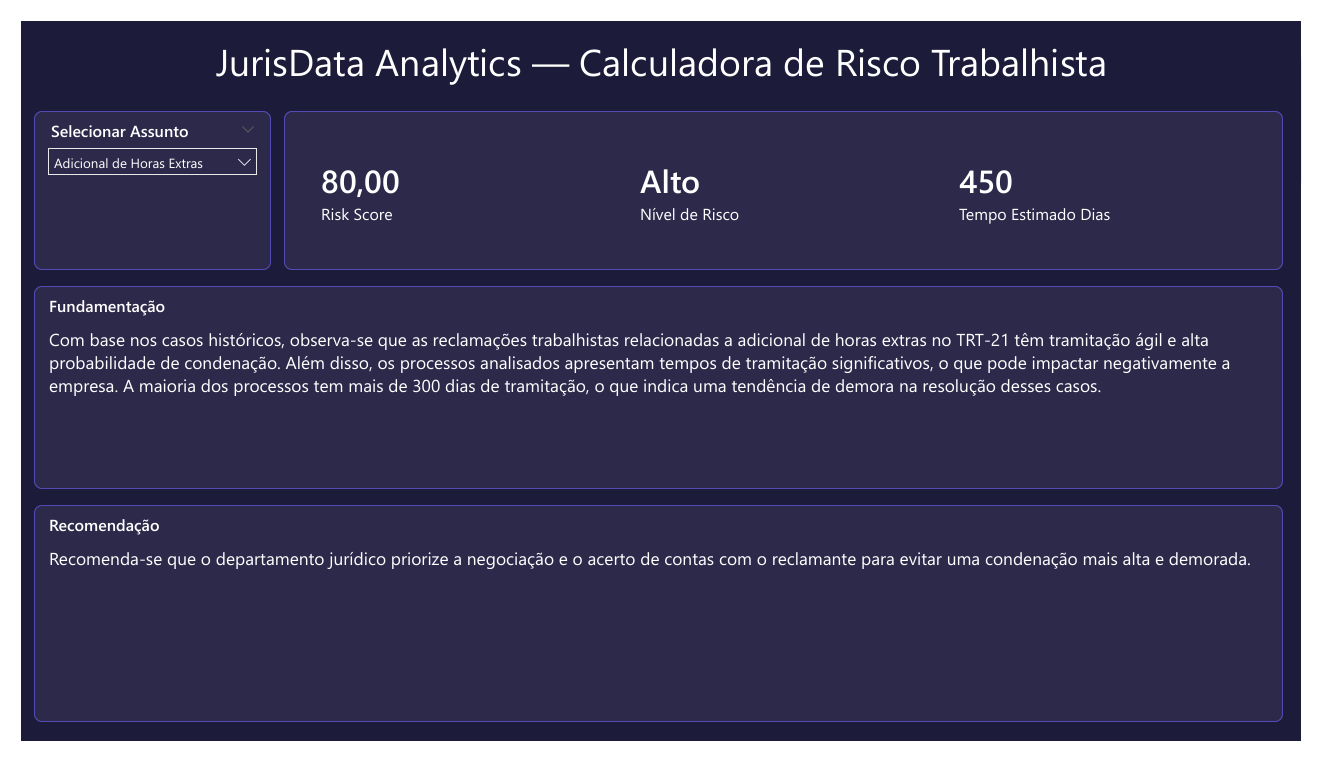

What the dashboard file says about the page in this screenshot:
{"tool":"powerbi","page":{"name":"Calculadora de Risco","canvas":[1280,720],"ordinal":2},"visuals":[{"type":"slicer","fields":{"Values":["llm pareceres.assunto_nome"]},"box":[12.2,88.9,236.7,158.9],"z":0},{"type":"cardVisual","fields":{"Data":["Avg(llm pareceres.risk_score)","Min(llm pareceres.Nível Risco)","Avg(llm pareceres.tempo_medio_estimado_dias)"]},"box":[262.2,88.9,998.9,158.9],"z":1000},{"type":"tableEx","fields":{"Values":["llm pareceres.fundamentacao"]},"box":[12.2,264.4,1248.9,202.2],"z":2000},{"type":"tableEx","fields":{"Values":["llm pareceres.recomendacao"]},"box":[12.2,483.3,1248.9,216.7],"z":3000},{"type":"textbox","box":[13.3,8.9,1252.2,68.9],"z":4000}]}

Visuals, with their boxes in screenshot pixels (x1, y1, x2, y2), scaled from the page's 1280x720 canvas onto the 1322x762 screenshot:
slicer - llm pareceres.assunto_nome: (13, 94, 257, 262)
cardVisual - Avg(llm pareceres.risk_score) x Min(llm pareceres.Nível Risco): (271, 94, 1302, 262)
tableEx - llm pareceres.fundamentacao: (13, 280, 1302, 494)
tableEx - llm pareceres.recomendacao: (13, 511, 1302, 741)
textbox: (14, 9, 1307, 82)
